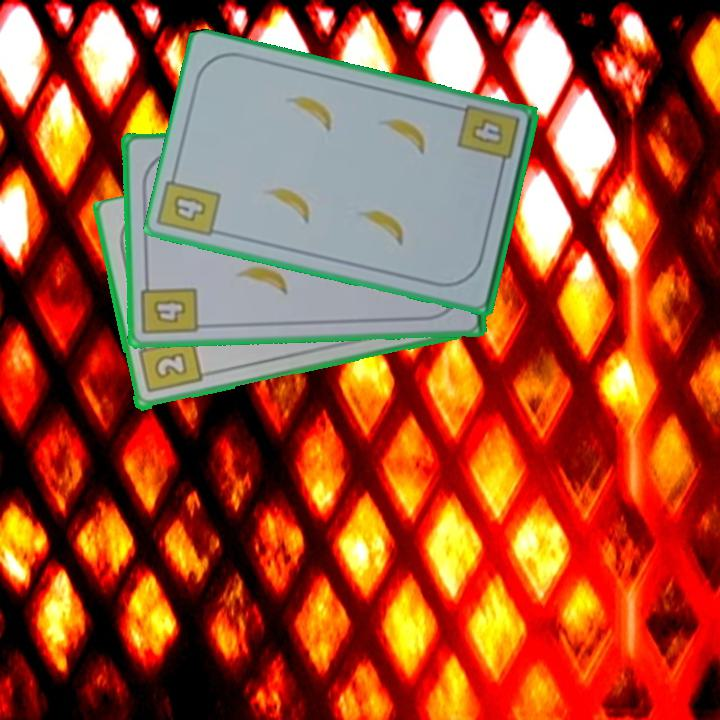2b: (135, 335, 204, 396)
4b: (455, 101, 522, 176), (138, 274, 201, 338), (169, 192, 209, 225)
